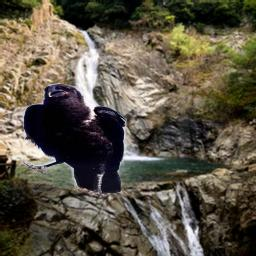Crow: (21, 83, 127, 196)
